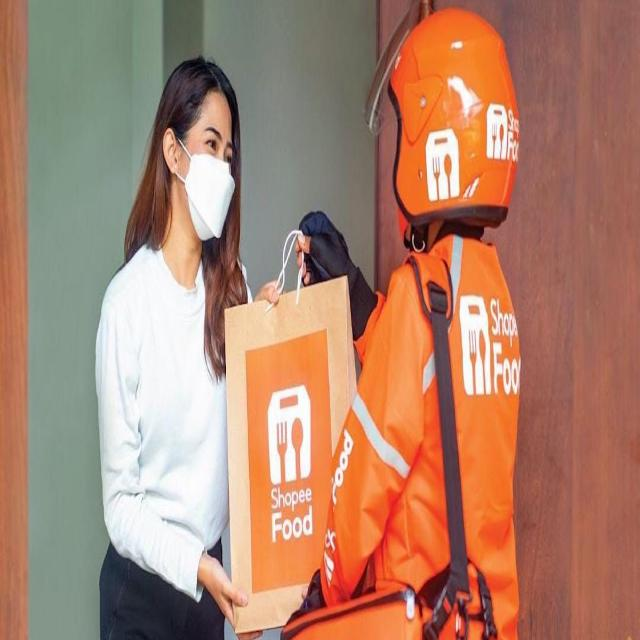helmet: (365, 5, 519, 227)
no_helmet: (148, 45, 244, 260)
